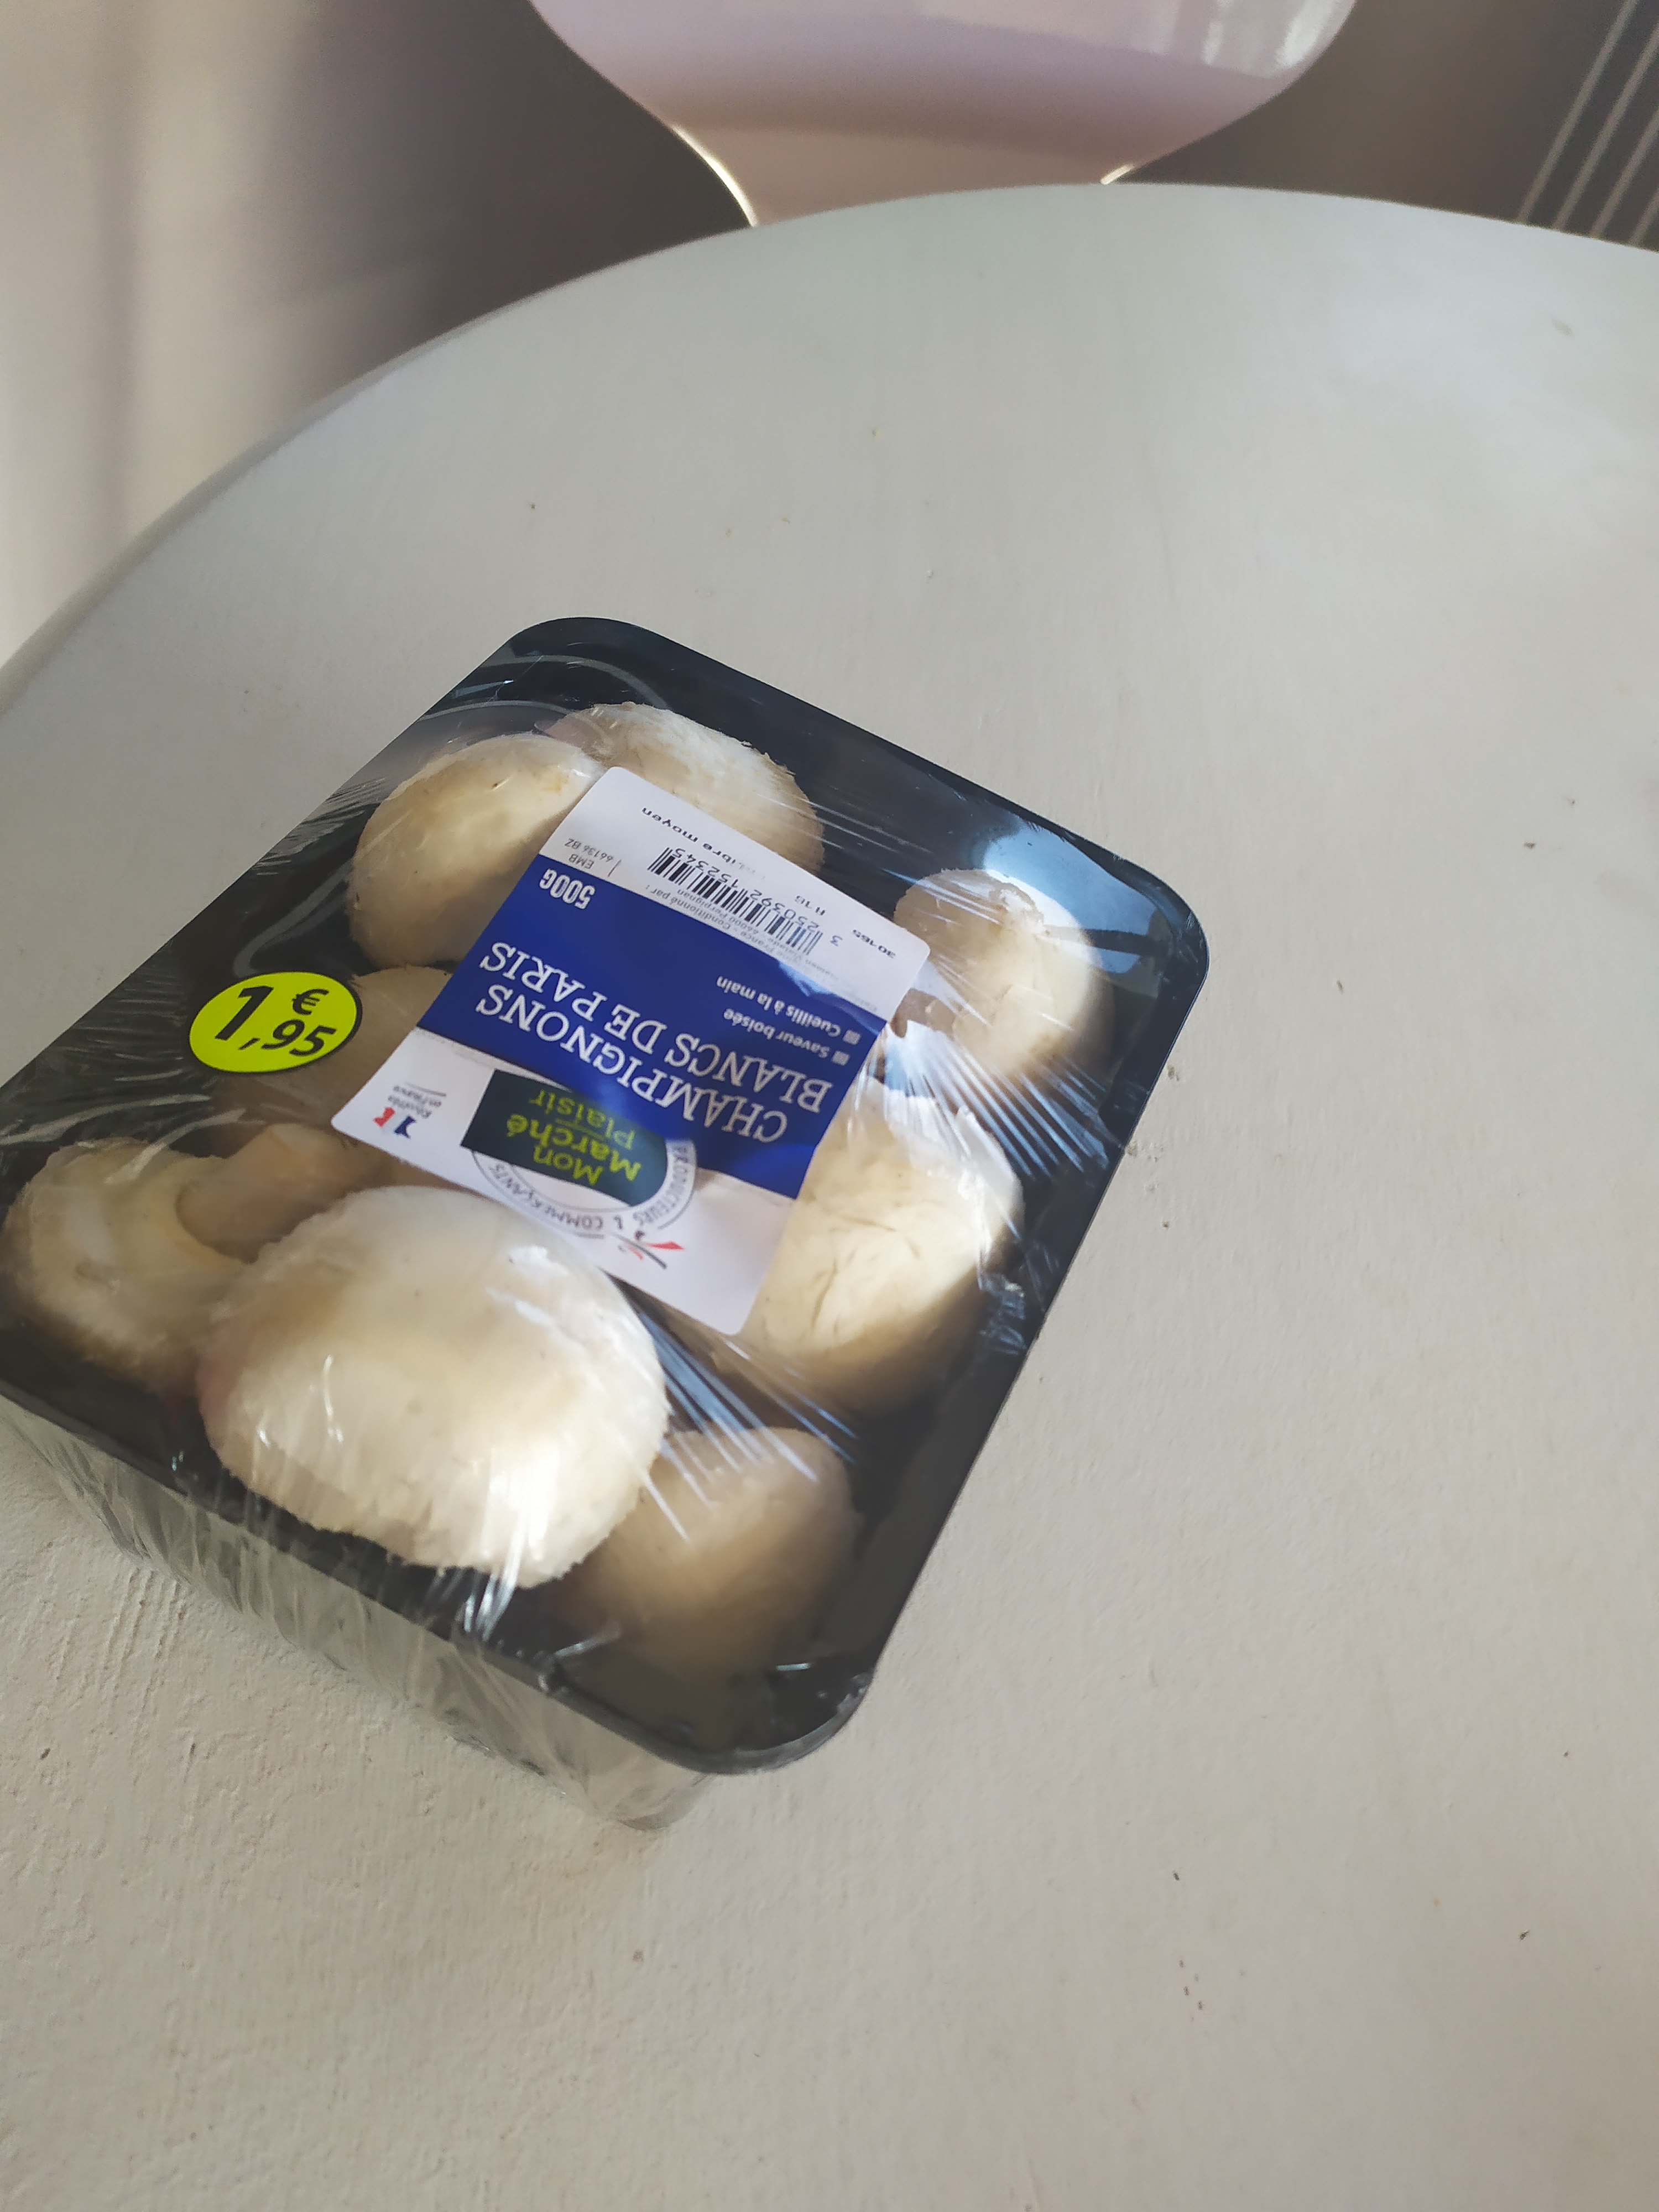mushroom: (0, 611, 1211, 1825)
